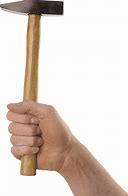hammer: (1, 1, 66, 178)
